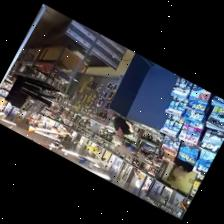person: (109, 113, 134, 143), (173, 156, 193, 177), (138, 149, 149, 160), (90, 119, 100, 131)
